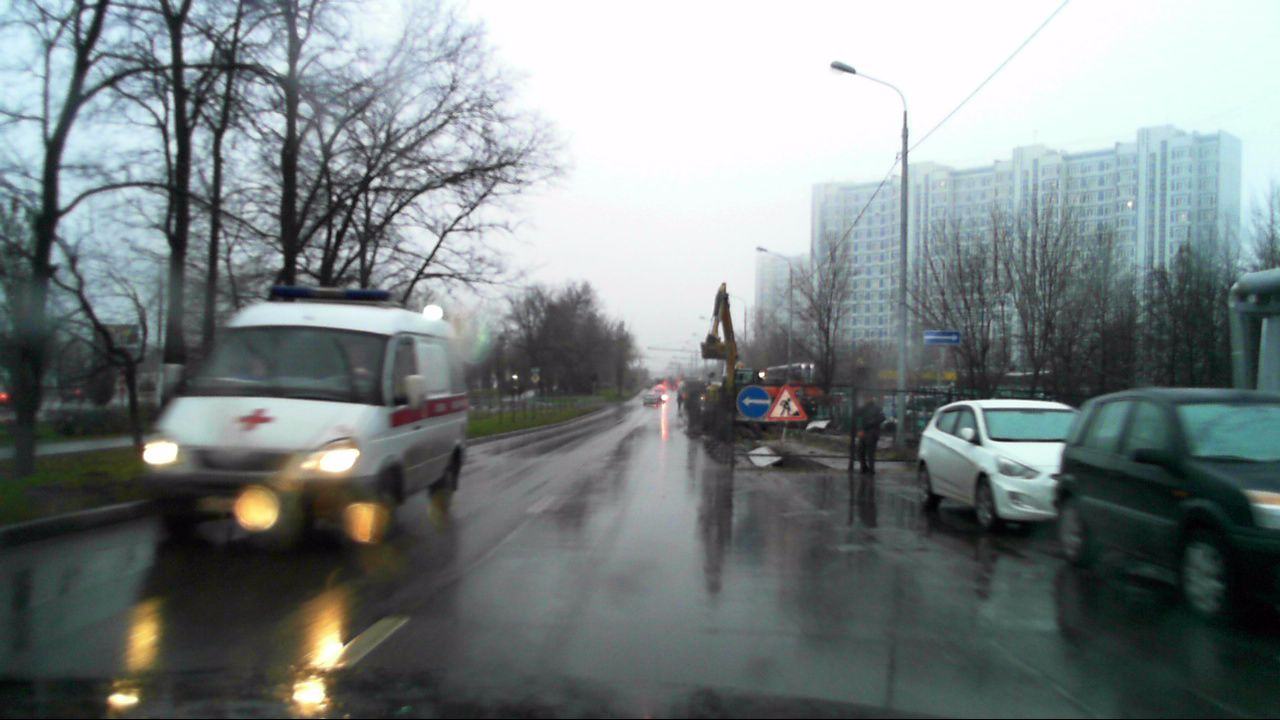One-Way Traffic: (923, 330, 960, 345)
Turn Left: (736, 386, 770, 418)
